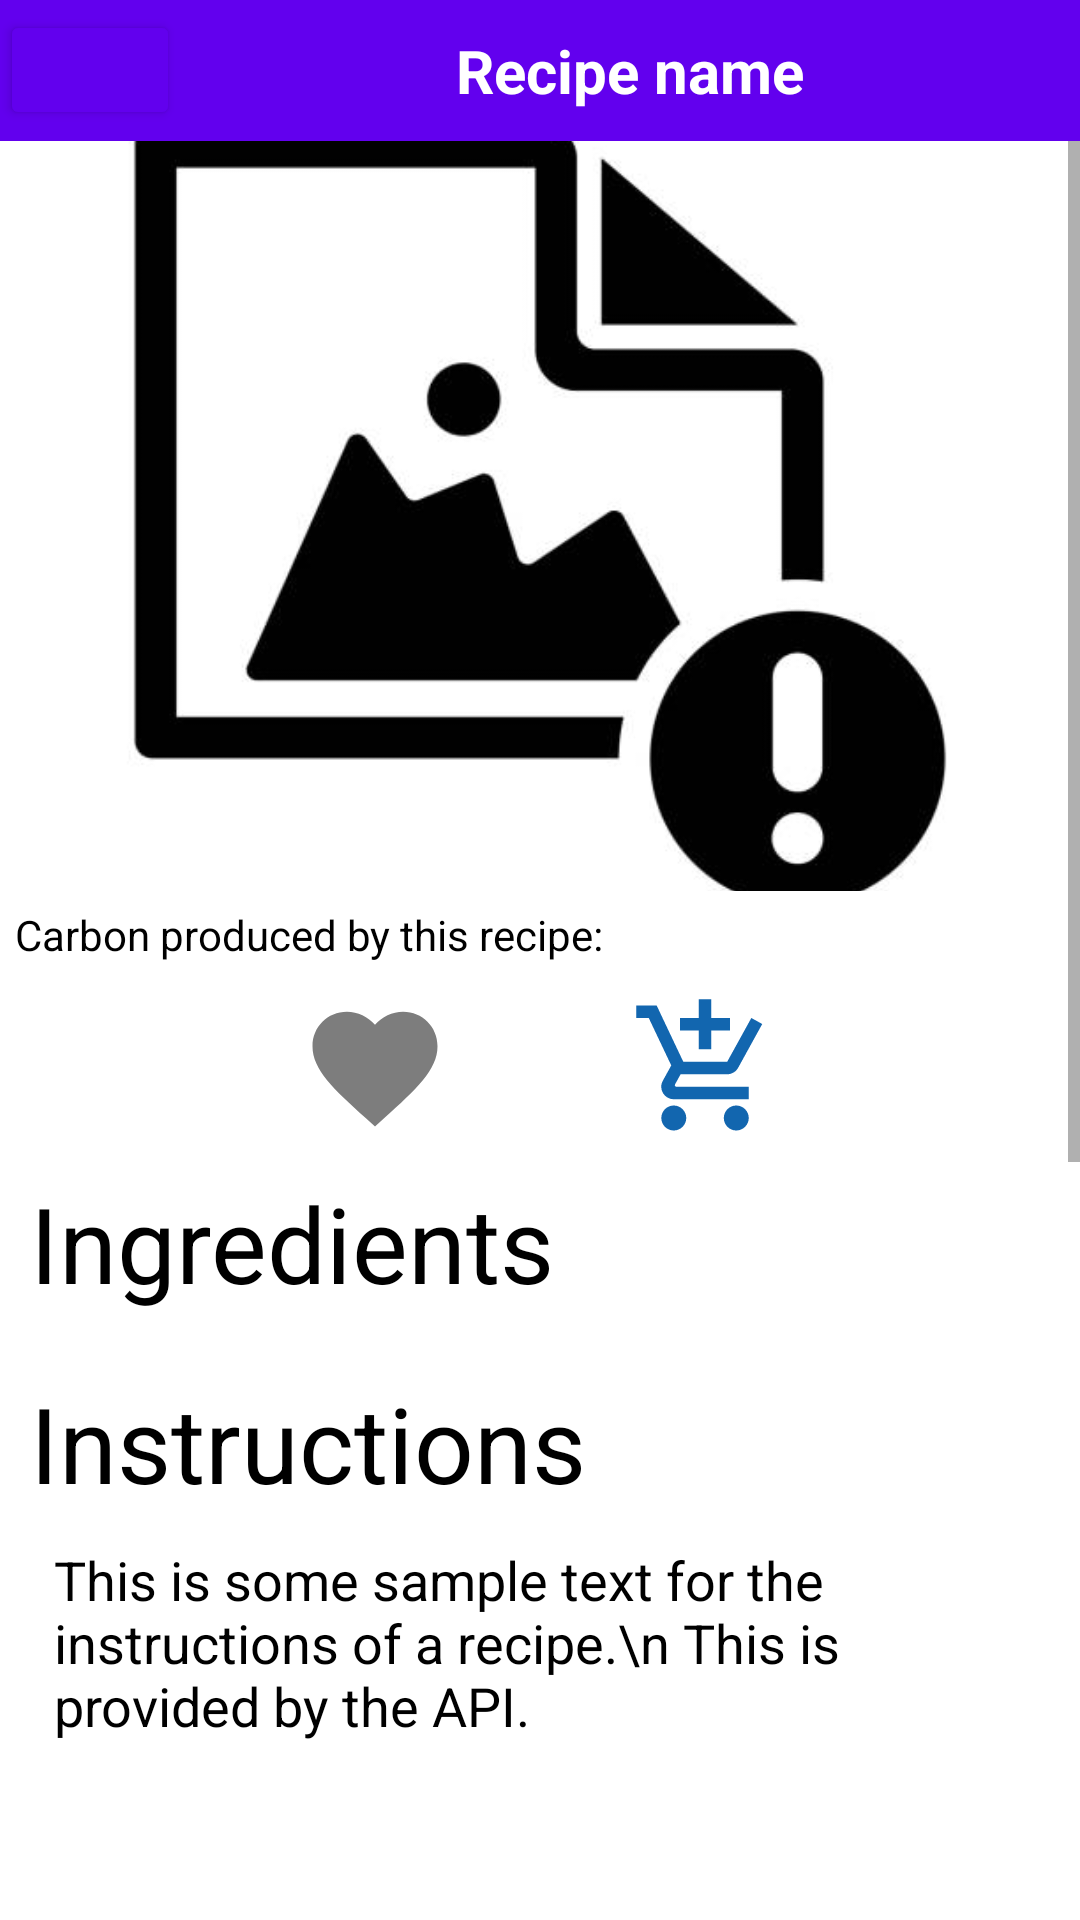

Icons on this 1080x1920 Android screen, each with the point to tap as [x,y]:
add shopping cart: [699,1065]
favorite unclicked: [375,1068]
